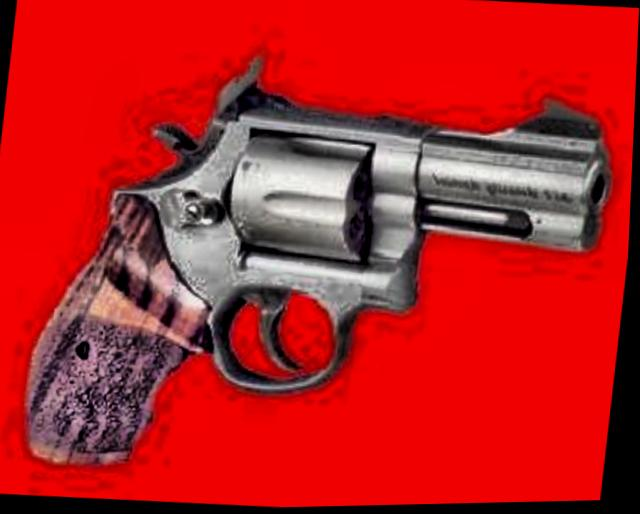pistol: (14, 65, 620, 503)
